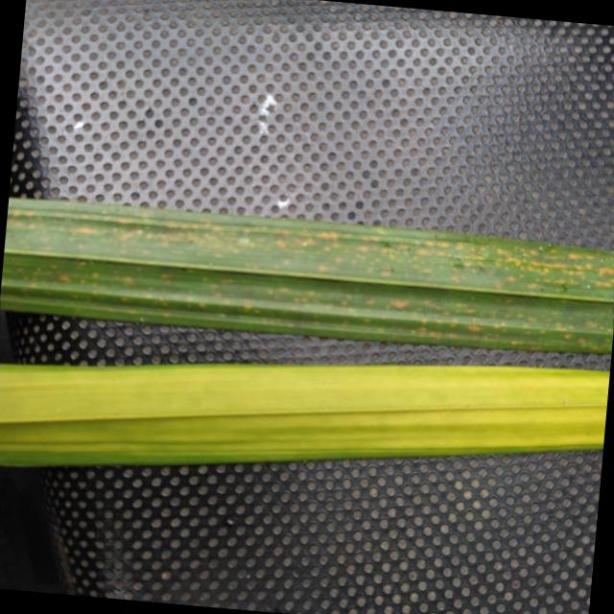nitrogen: (6, 189, 614, 350), (0, 363, 614, 472)
